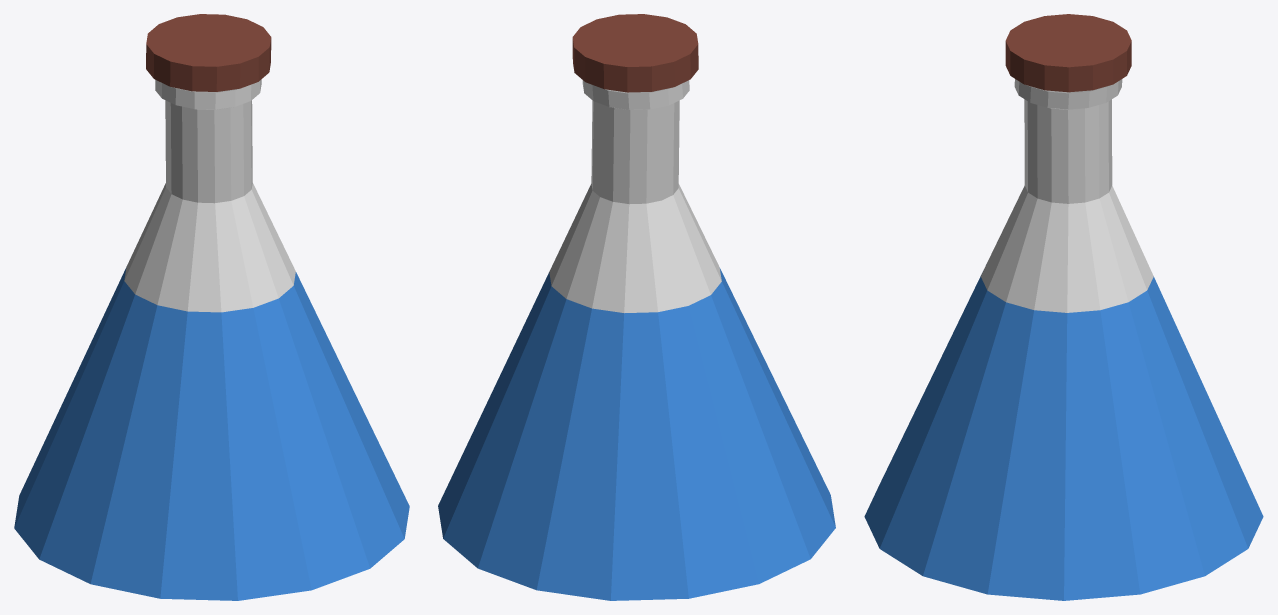
The model's file is Medium Potion.fbx.
3 views of the same model, side by side, from view 1: azimuth 30°, elevation 25°; view 2: azimuth 150°, elevation 25°; view 3: azimuth 270°, elevation 25° (orthographic).
Visible parts, largest first — view 1: Circle; view 2: Circle; view 3: Circle.
Part boxes in pixels (x1,y1,x2,y2): Circle: [14, 14, 409, 600]; Circle: [438, 14, 835, 600]; Circle: [864, 14, 1263, 600].
Size of the model in its own units: 395 by 552 by 395.
